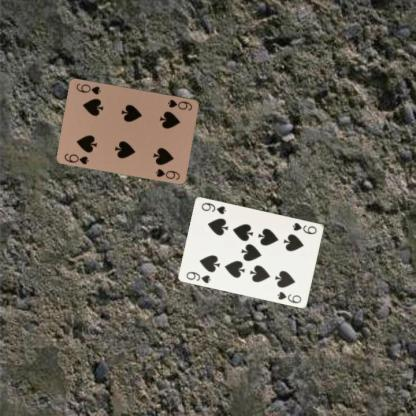6s: (165, 97, 194, 112), (62, 151, 90, 165)
9s: (290, 220, 318, 236), (184, 269, 212, 284)
